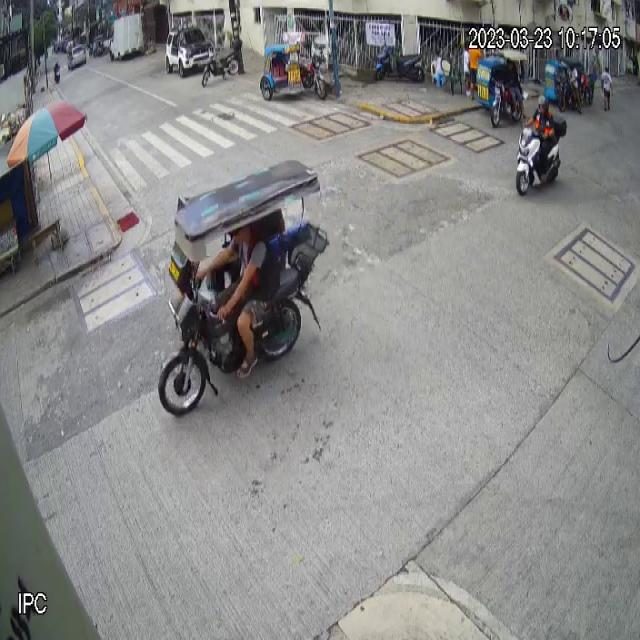Motorcycle: (516, 110, 568, 196)
Tricycle: (156, 156, 329, 419), (257, 31, 328, 103)
